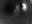person: (15, 5, 22, 17), (22, 4, 29, 14)
